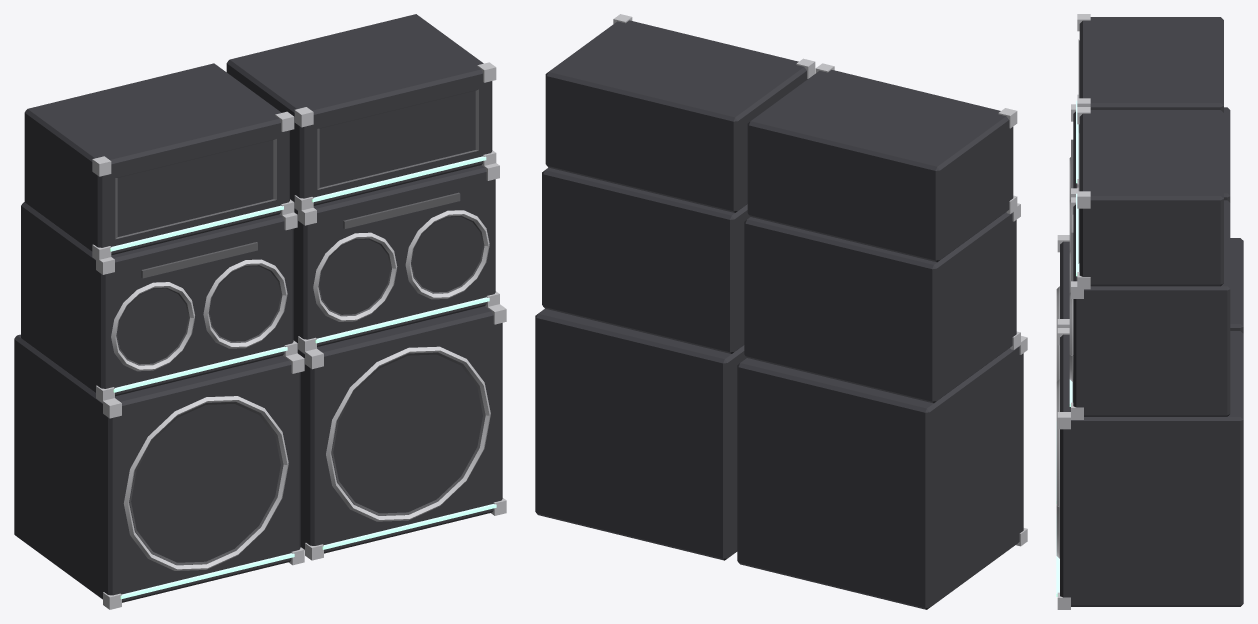
File: prop_speaker_stack.glb
3 renders of one model, left to right at view 1: azimuth 30°, elevation 25°; view 2: azimuth 150°, elevation 25°; view 3: azimuth 270°, elevation 25°, orthographic. The views are drawn at different scales.
Parts seen in each view (by area): view 1: SpeakerStack; view 2: SpeakerStack; view 3: SpeakerStack.
Part boxes in pixels (x1,y1,x2,y2): SpeakerStack: [14, 14, 506, 609]; SpeakerStack: [535, 14, 1027, 609]; SpeakerStack: [1056, 14, 1243, 609].
Bounding box in the file's own units: 1.65 × 1.74 × 0.714.
